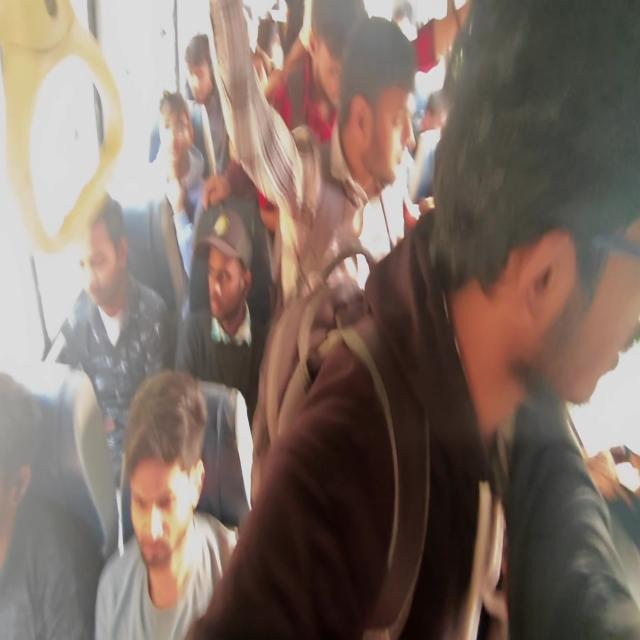person: (460, 19, 640, 450), (121, 399, 211, 565), (362, 31, 426, 187), (0, 372, 53, 522), (74, 209, 130, 306), (158, 91, 210, 180), (209, 223, 260, 306), (318, 8, 357, 93), (185, 30, 221, 99), (256, 23, 284, 67), (431, 92, 450, 144)
